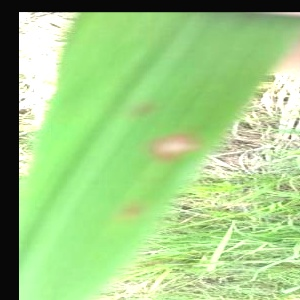Brown_Spot: (140, 117, 212, 166)
